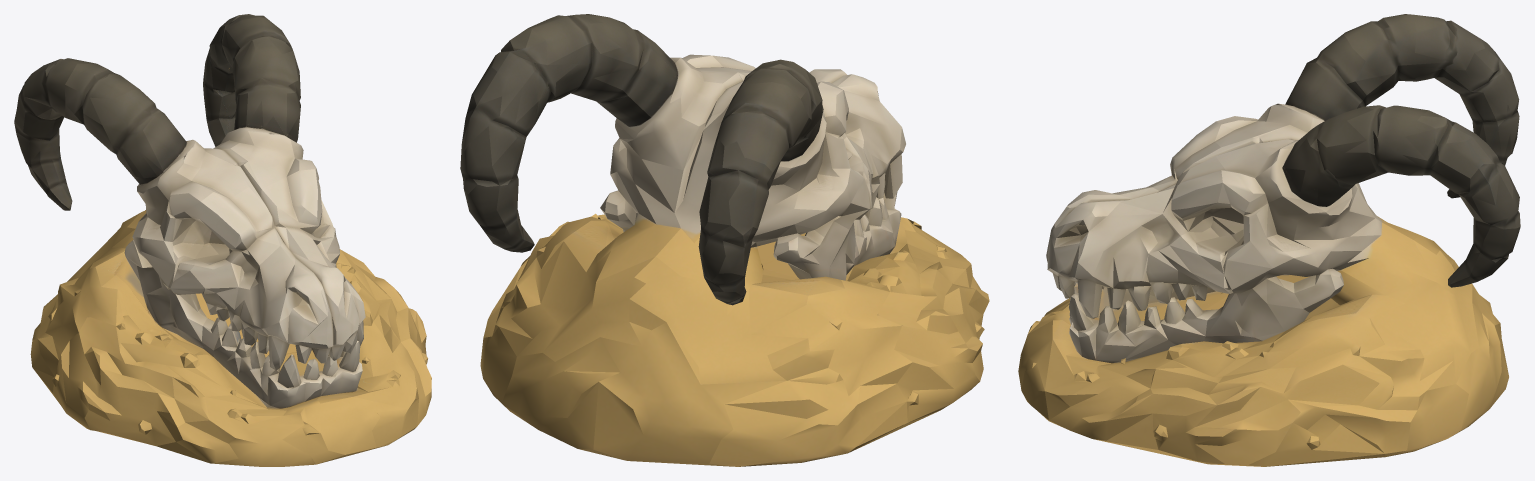
3 views of the same model, side by side, from view 1: azimuth 30°, elevation 25°; view 2: azimuth 150°, elevation 25°; view 3: azimuth 270°, elevation 25° (orthographic). The views are drawn at different scales.
Size of the model in its own units: 1.63 by 1.31 by 1.9.
Materials: 1 (1 with a texture image).
